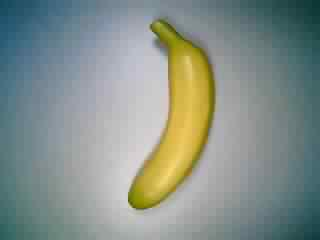banana: (123, 19, 217, 213)
